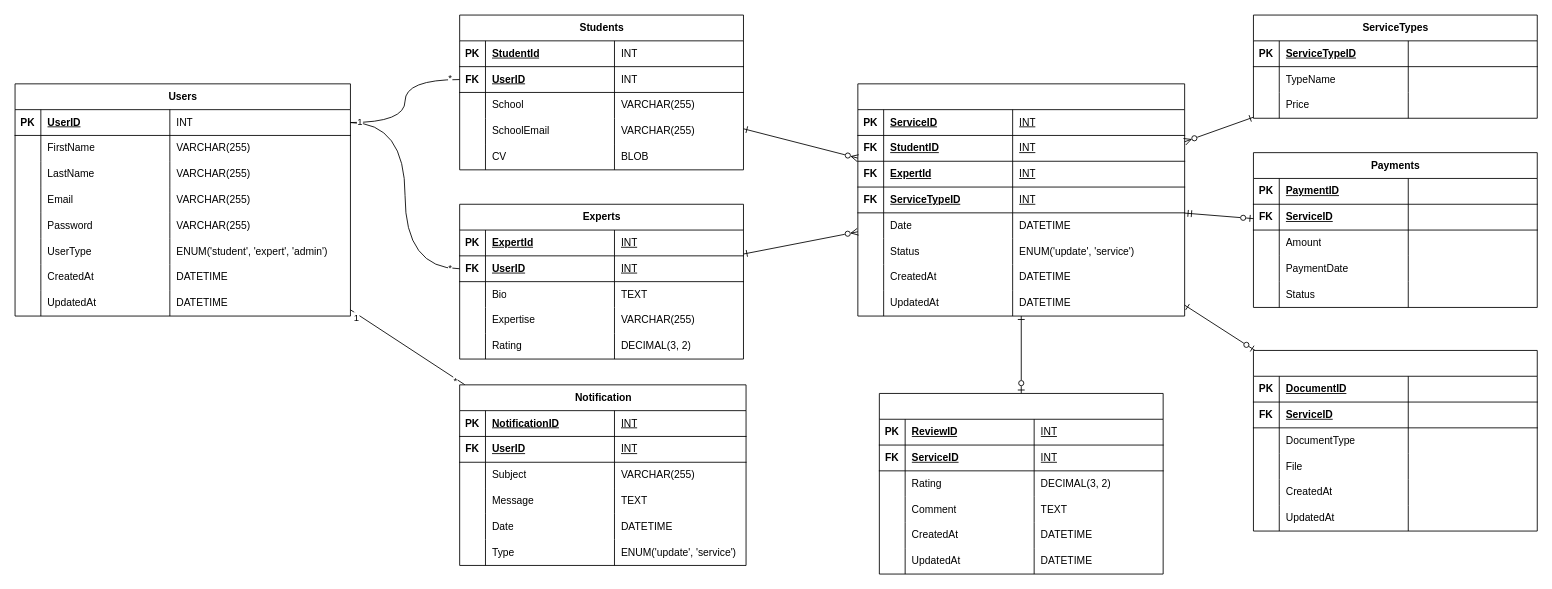
Image size: 1552x589. Some labels were removed from this diagram. The shapes that lost their labels are listed below. From the top down, each one's box as (x1, y1, x2, y2) in pixels, then its label:
(857, 83, 1185, 316): Services
(1253, 350, 1537, 531): Documents
(878, 393, 1163, 574): Reviews
